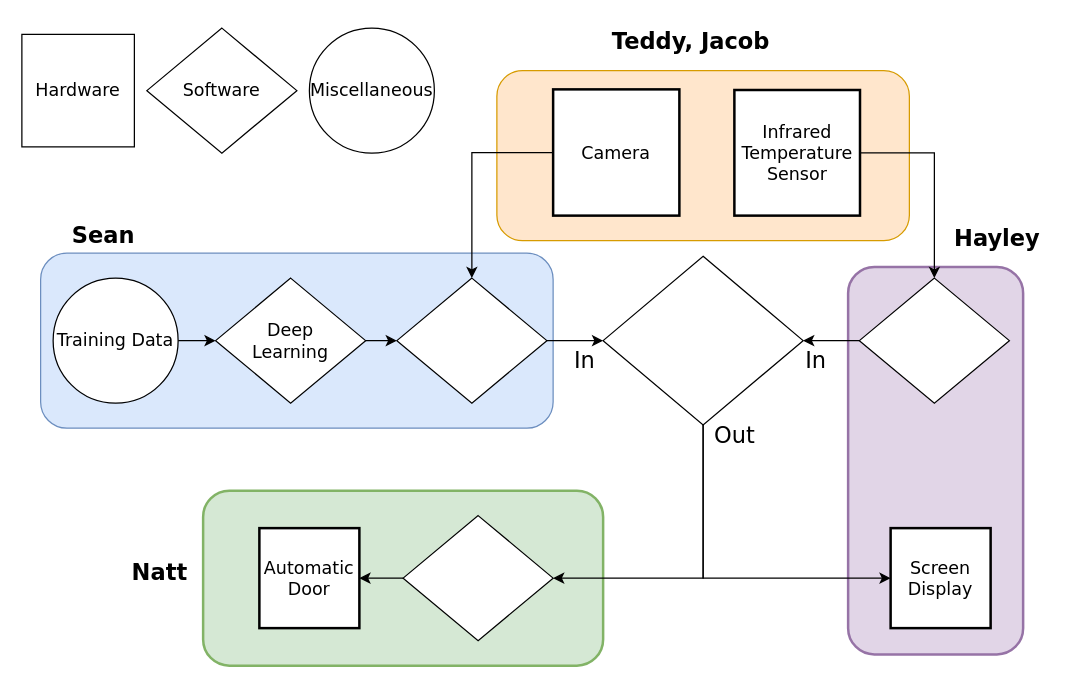
Image size: 1069x688. Some labels were removed from this diagram. The shapes that lost their labels are listed below. From the top down, each one's box as (x1, y1, x2, y2) in pixels, then its label:
(396, 277, 547, 403): Mask Detector
(602, 255, 803, 425): Master Controller [ CPU ]
(858, 277, 1009, 403): Temperature Checker
(402, 514, 553, 641): Door Controller
